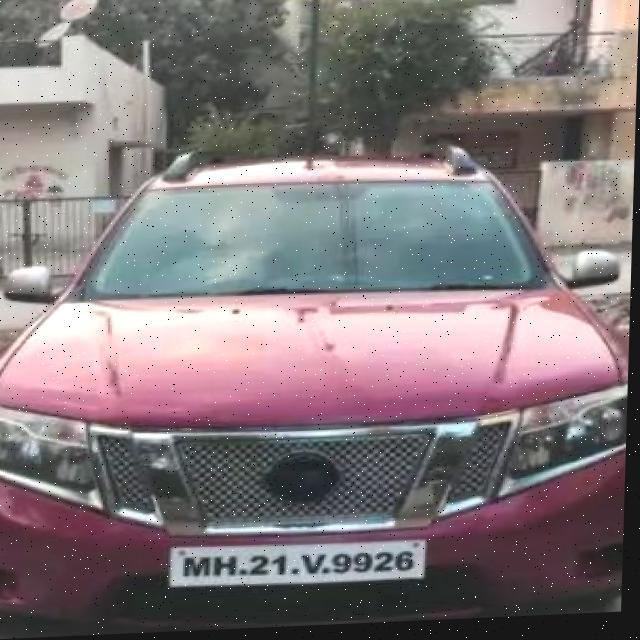plate: (174, 542, 429, 594)
